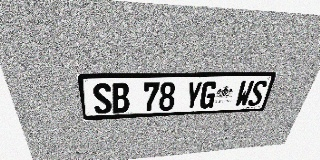7: (142, 82, 160, 112)
8: (158, 82, 177, 111)
B: (111, 83, 129, 113)
G: (199, 81, 218, 109)
S: (92, 83, 112, 114), (247, 80, 268, 106)
W: (234, 80, 255, 107)
Y: (184, 81, 203, 110)
